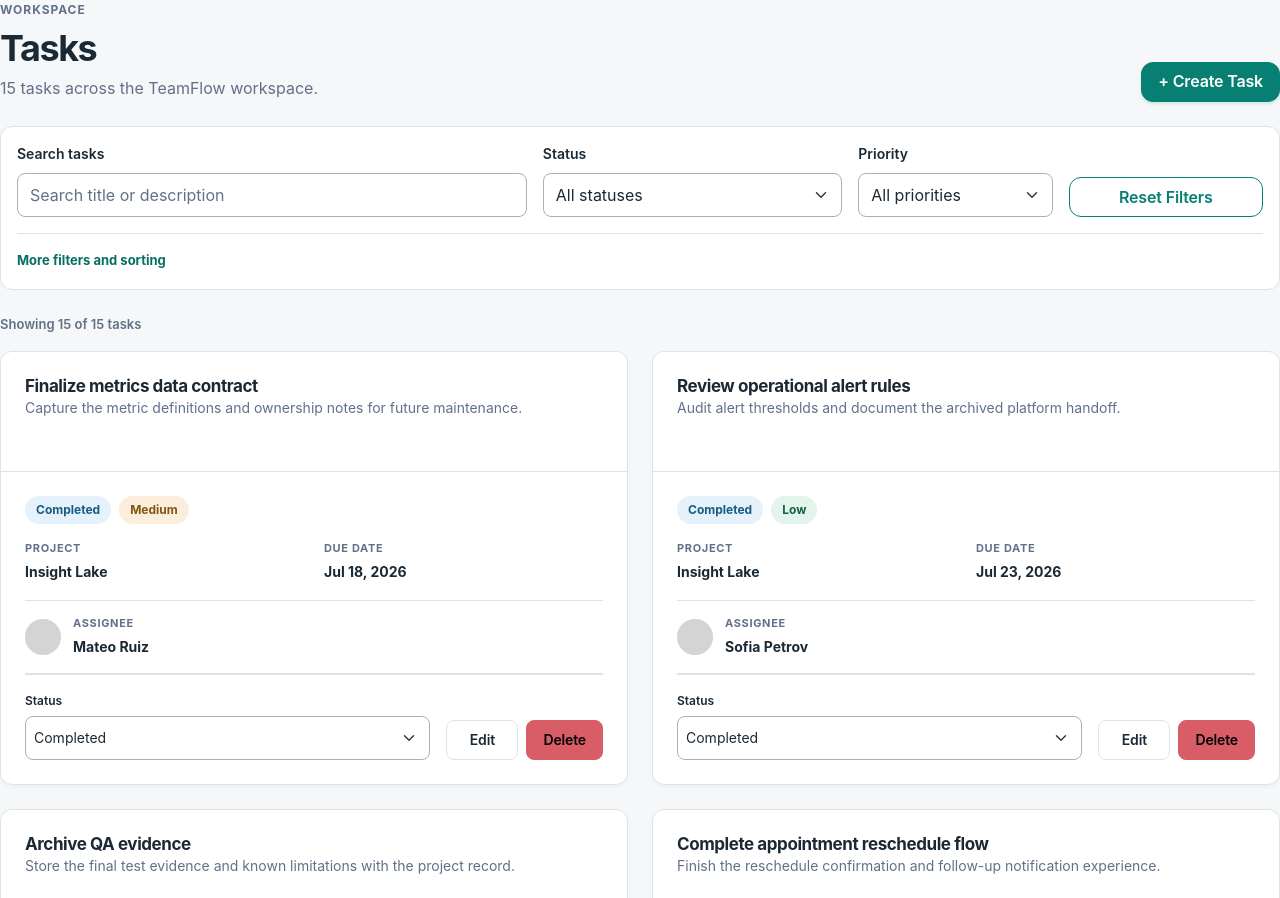
Test: search, filtering, and sorting utilities › resets rendered task filters and restores the full task list
Type "does-not-exist" into the search field labelled "Search tasks". click: coordinates (272, 195)
box: 17,173 -> 527,217
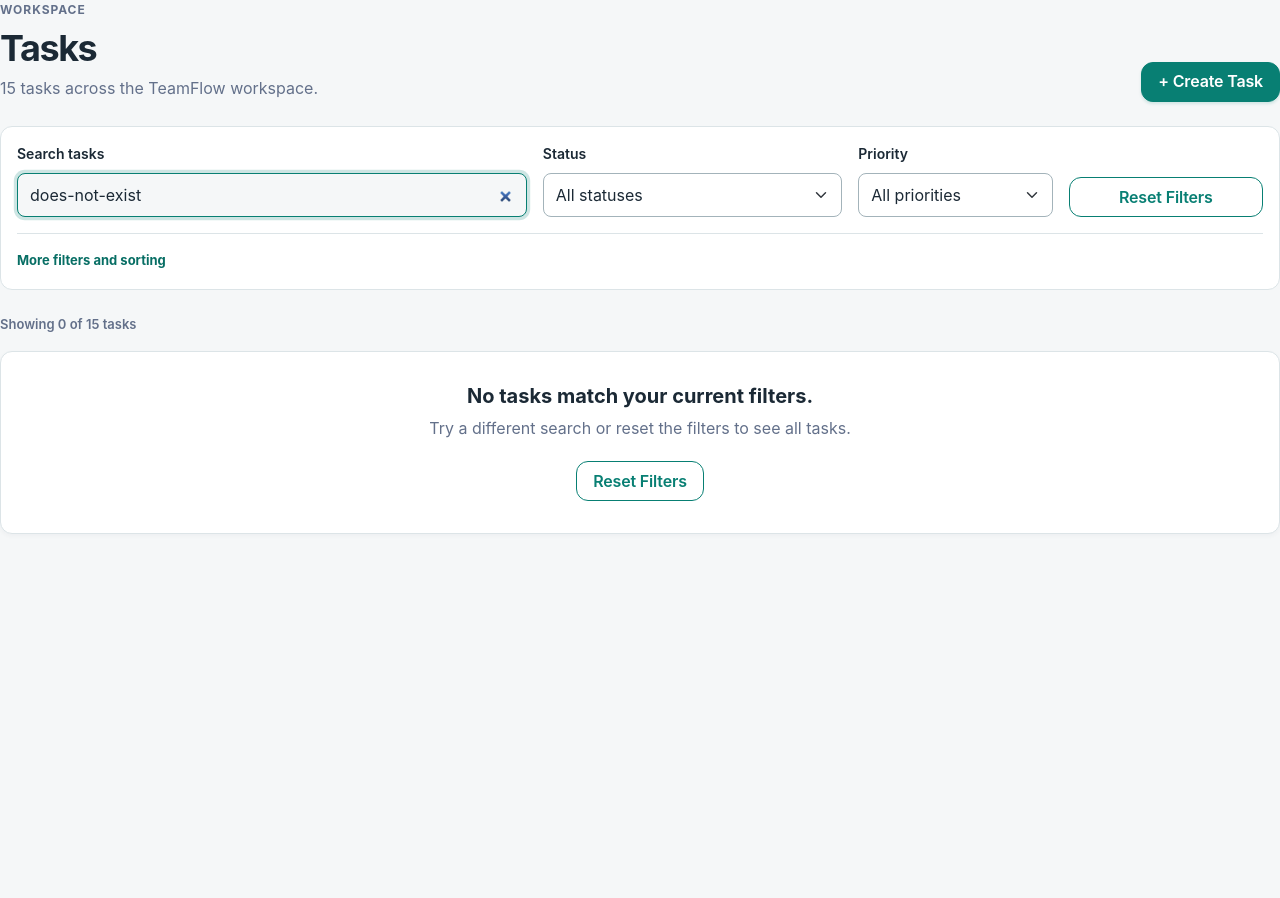
Now the heading "No tasks match your current filters." is shown, box 467,384 -> 813,408
Click the button "Reset Filters" below "Priority". click: coordinates (1166, 197)
box: 1069,177 -> 1263,217
(page scrolled)
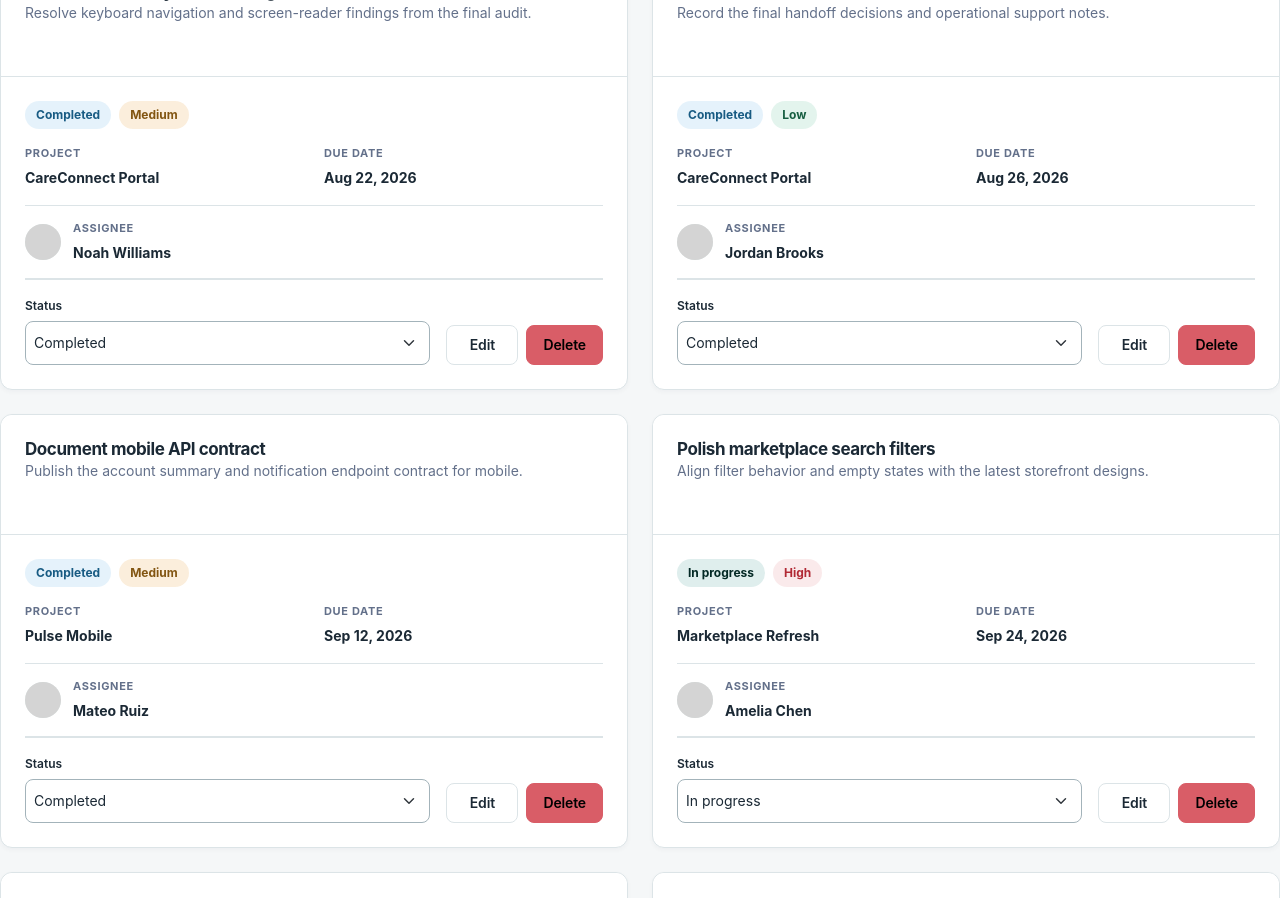
Now the heading "Polish marketplace search filters" is shown, box 677,439 -> 935,459
